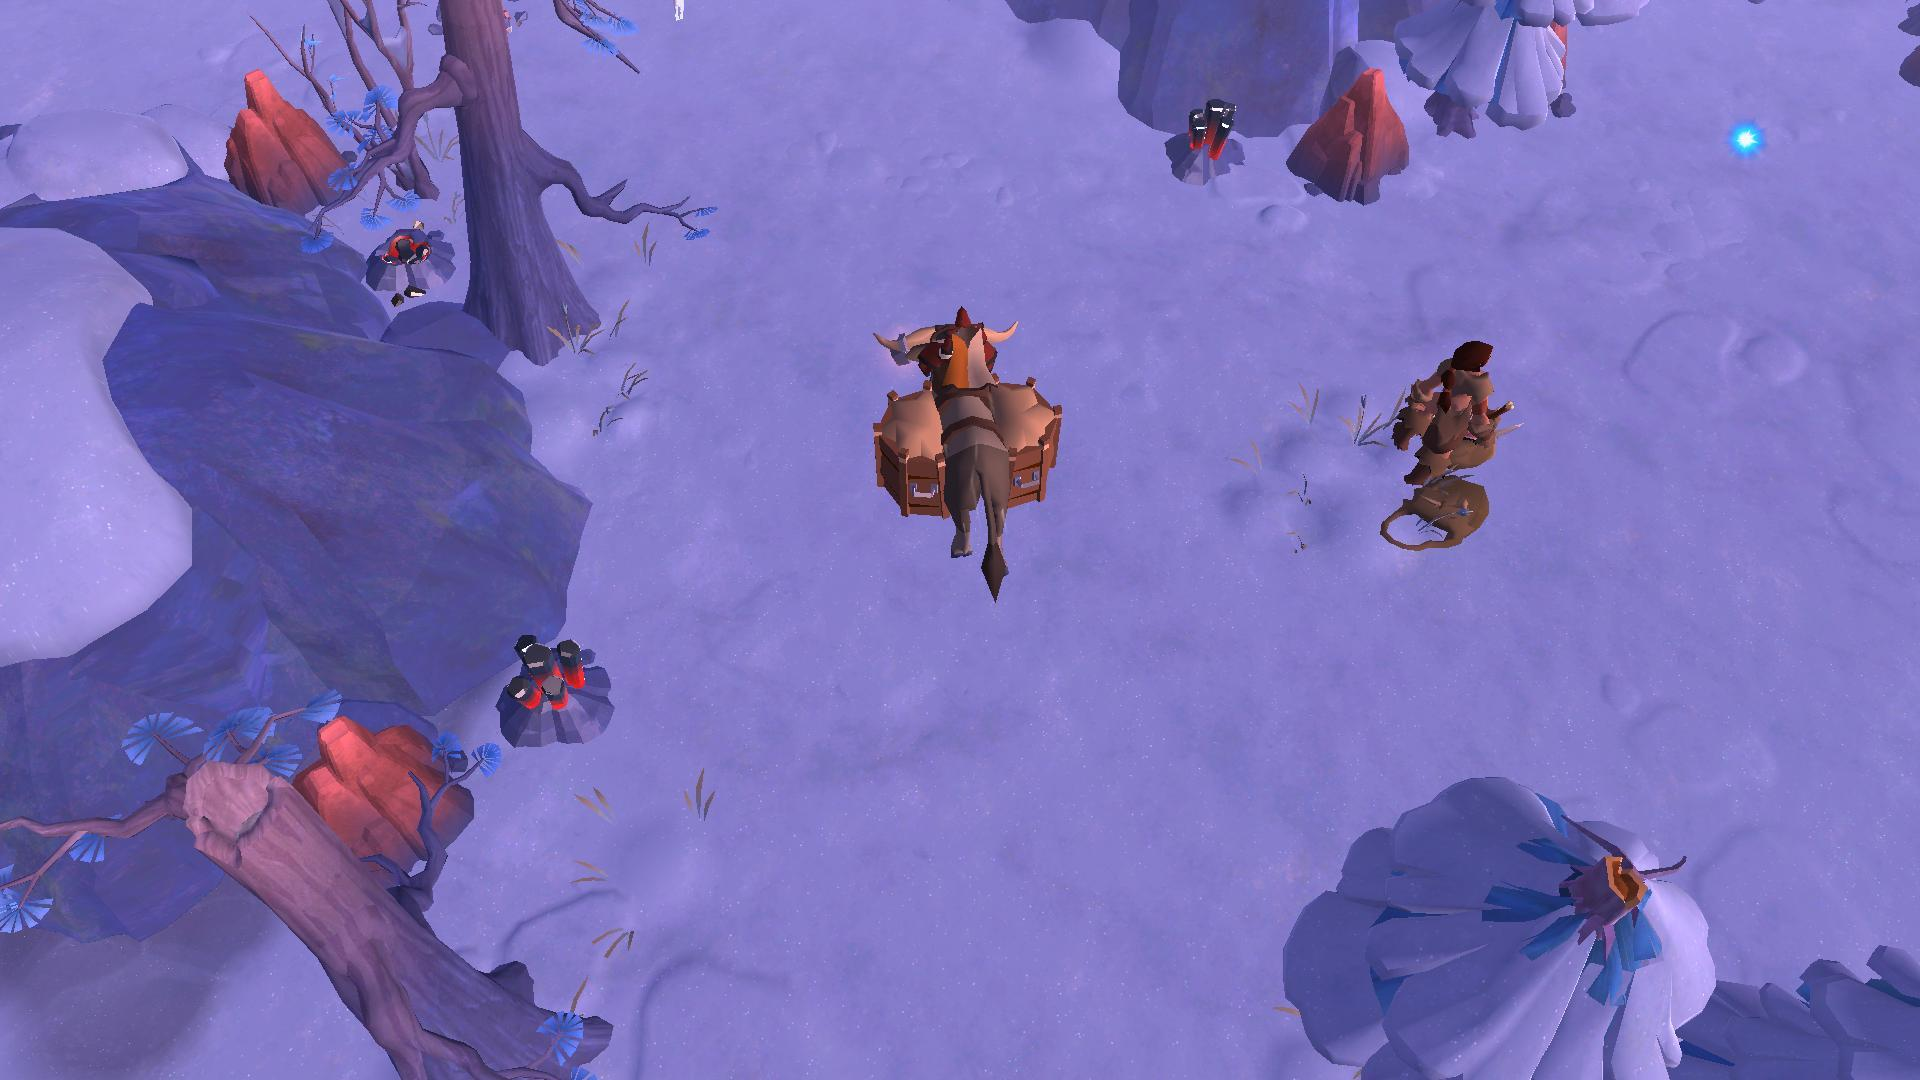enemy_factionKeeper: (1382, 327, 1505, 484)
ore_t5: (500, 620, 584, 719), (1179, 90, 1242, 166)
rock_t5: (297, 707, 471, 881), (211, 61, 360, 219), (1287, 65, 1411, 216)
